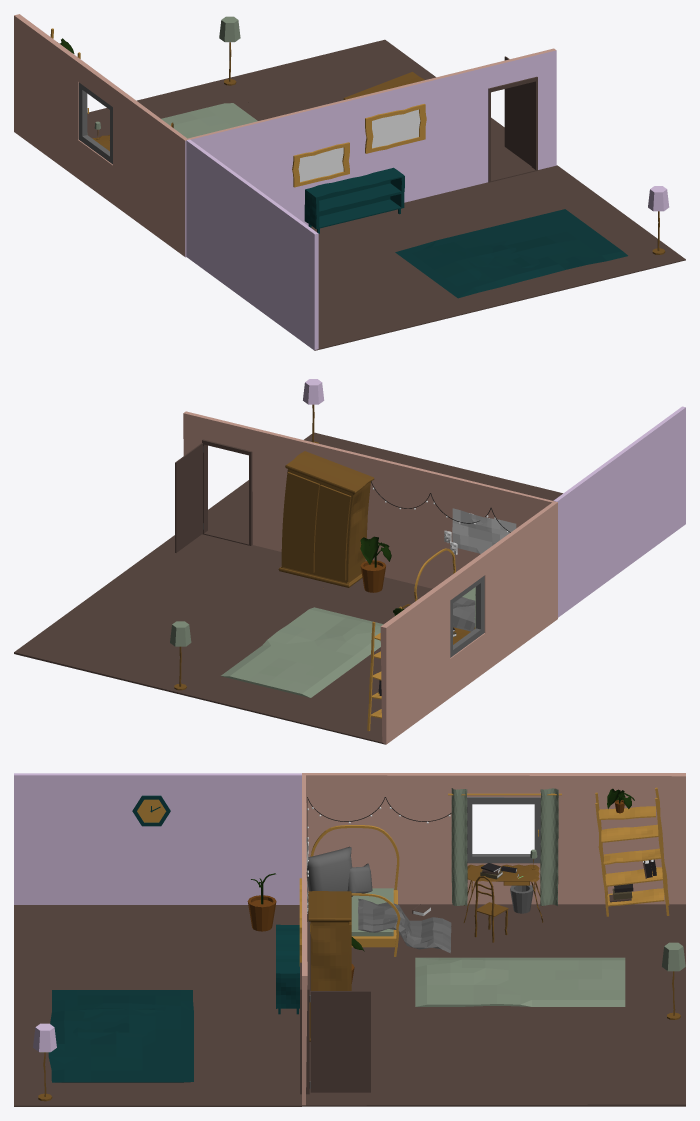
File: room_norah.fbx
3 views of the same model, one above another, from view 1: azimuth 30°, elevation 25°; view 2: azimuth 150°, elevation 25°; view 3: azimuth 270°, elevation 25° (orthographic). The views are drawn at different scales.
Parts seen in each view (by area): view 1: Room, Room_2, Rug.001, Cube.008, Door.004, Rug, Door_Frame, Plane.004, Window_Frame, Plane.005, Picture_Frame, Picture_Frame.001 (+1 smaller); view 2: Room, Room_2, Rug, Closet, Door.002, Door.001, Door.004, Wall_Decoration, Door_Frame, Window_Frame, Blanket, Pot.001; view 3: Room, Room_2, Rug.001, Rug, Door.004, Closet, Blanket, Curtain, Cube.008, Curtain.001, Window_Frame, Pillow.001 (+17 smaller).
Boxes of the visible parts, x1=… form: Room: x1=14, y1=14, x2=556, y2=257; Room_2: x1=186, y1=139, x2=685, y2=350; Rug.001: x1=395, y1=209, x2=627, y2=298; Cube.008: x1=304, y1=167, x2=404, y2=233; Door.004: x1=504, y1=56, x2=531, y2=165; Rug: x1=161, y1=103, x2=257, y2=138; Door_Frame: x1=488, y1=76, x2=537, y2=182; Plane.004: x1=372, y1=109, x2=420, y2=148; Window_Frame: x1=78, y1=82, x2=112, y2=164; Plane.005: x1=298, y1=147, x2=343, y2=181; Picture_Frame: x1=365, y1=104, x2=426, y2=153; Picture_Frame.001: x1=292, y1=142, x2=349, y2=187; Room: x1=14, y1=411, x2=557, y2=744; Room_2: x1=208, y1=406, x2=685, y2=617; Rug: x1=221, y1=607, x2=383, y2=697; Closet: x1=278, y1=451, x2=374, y2=587; Door.002: x1=281, y1=472, x2=320, y2=572; Door.001: x1=314, y1=484, x2=351, y2=580; Door.004: x1=175, y1=443, x2=202, y2=552; Wall_Decoration: x1=452, y1=508, x2=516, y2=553; Door_Frame: x1=202, y1=439, x2=252, y2=545; Window_Frame: x1=450, y1=575, x2=484, y2=657; Blanket: x1=453, y1=597, x2=475, y2=631; Pot.001: x1=360, y1=560, x2=385, y2=592; Room: x1=302, y1=773, x2=685, y2=1106; Room_2: x1=14, y1=773, x2=301, y2=1106; Rug.001: x1=48, y1=990, x2=193, y2=1082; Rug: x1=415, y1=957, x2=625, y2=1006; Door.004: x1=310, y1=991, x2=370, y2=1092; Closet: x1=308, y1=891, x2=351, y2=1041; Blanket: x1=358, y1=898, x2=451, y2=953; Curtain: x1=540, y1=788, x2=558, y2=905; Cube.008: x1=276, y1=924, x2=299, y2=1014; Curtain.001: x1=451, y1=788, x2=467, y2=905; Window_Frame: x1=467, y1=797, x2=540, y2=863; Pillow.001: x1=306, y1=846, x2=352, y2=891.
Bounding box in the file's own units: 2005 × 615 × 2799.
